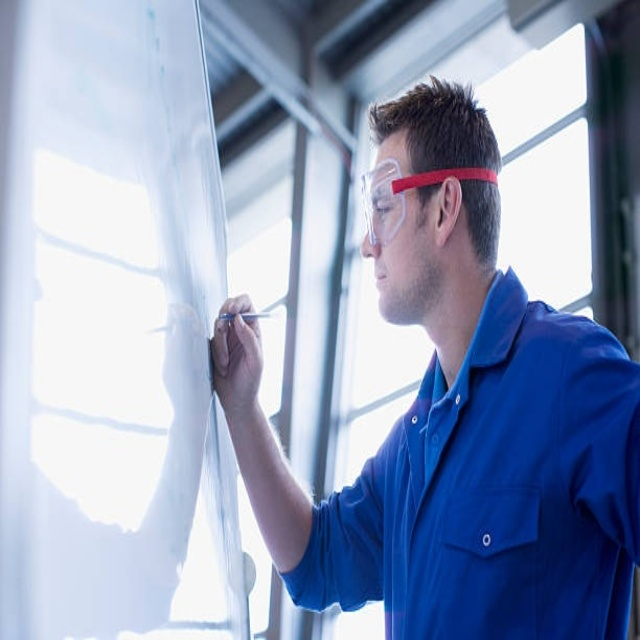Gafas: (362, 162, 495, 247)
Sin_guantes: (207, 292, 265, 409)
Sin_mascara: (370, 259, 402, 315)
